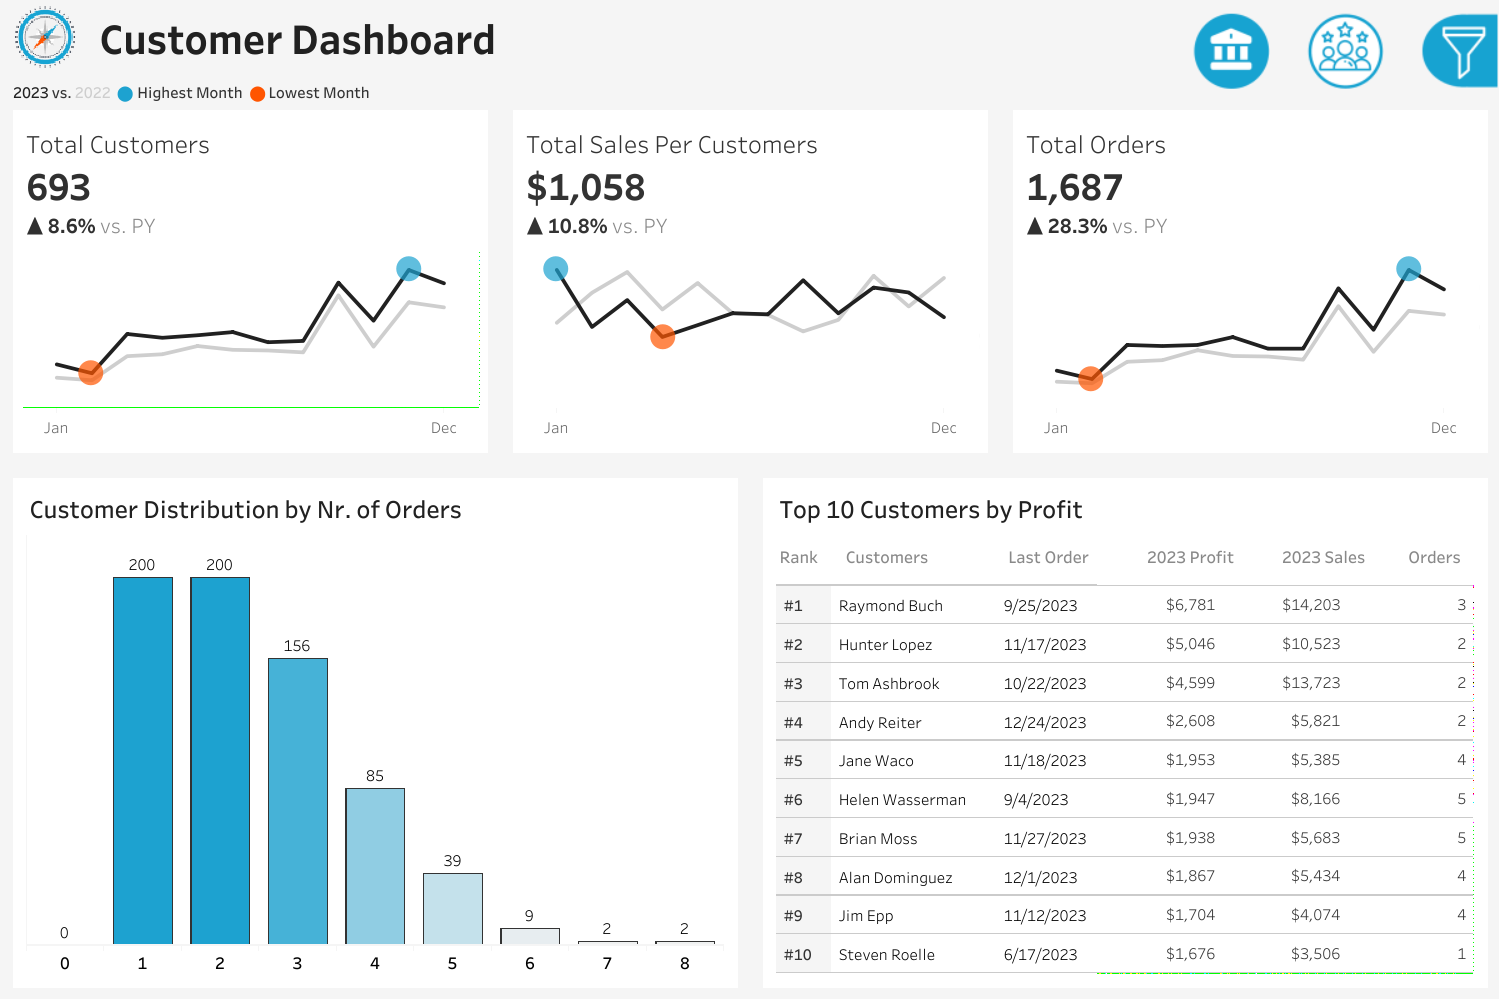

The page's visual inventory and layout, read from the dashboard file:
{"tool":"tableau","page":{"name":"Customer Dashboard","canvas":[1200,800],"ordinal":0},"visuals":[{"type":"image","param":"Image/Icon - Logo.png","box":[0,0,73,59]},{"type":"text","box":[73,0,820,59]},{"type":"dashboard-object","box":[940,6,91,70]},{"type":"dashboard-object","box":[1031,6,91,70]},{"type":"blank","box":[952,10,237,86]},{"type":"worksheet","title":"Legend KPI","mark":"Automatic","box":[0,59,1200,29]},{"type":"worksheet","title":"KPI Customers","mark":"Automatic","rows":["Min/Max Quantity (copy)_3221481164588691468"],"cols":["Order Date"],"box":[0,88,400,284]},{"type":"worksheet","title":"KPI Sales Per Customers","mark":"Automatic","rows":["Min/Max Quantity (copy)_3221481164537155591"],"cols":["Order Date"],"box":[400,88,400,284]},{"type":"worksheet","title":"KPI Orders","mark":"Automatic","rows":["Min/Max Sales (copy)_3221481164601258003"],"cols":["Order Date"],"box":[800,88,400,284]},{"type":"text","box":[952,96,237,37]},{"type":"parameter","param":"[Parameters].[Parameter 1]","box":[952,133,237,55]},{"type":"text","box":[952,188,237,32]},{"type":"filter","title":"KPI Customers","param":"[federated.1kpxa041aiai2y1cl4pui1t4eju9].[none:Category:nk]","box":[952,220,237,57]},{"type":"filter","title":"KPI Customers","param":"[federated.1kpxa041aiai2y1cl4pui1t4eju9].[none:Sub-Category:nk]","box":[952,277,237,57]},{"type":"blank","box":[952,334,237,60]},{"type":"text","box":[17,389,566,40]},{"type":"text","box":[617,389,566,40]},{"type":"text","box":[952,394,237,32]},{"type":"filter","title":"KPI Customers","param":"[federated.1kpxa041aiai2y1cl4pui1t4eju9].[none:Region:nk]","box":[952,426,237,57]},{"type":"worksheet","title":"Customer Distribution","mark":"Bar","rows":["CY Sales (copy)_3221481164532666369"],"cols":["Calculation_998110323739992064"],"box":[17,429,566,354]},{"type":"text","box":[617,429,53,40]},{"type":"text","box":[670,429,130,40]},{"type":"text","box":[800,429,111,40]},{"type":"text","box":[911,429,108,40]},{"type":"text","box":[1019,429,101,40]},{"type":"text","box":[1120,429,63,40]},{"type":"worksheet","title":"Top Customers","mark":"Automatic","rows":["Calculation_782500491678904334","Customer Name","Order Date"],"box":[617,469,566,314]},{"type":"filter","title":"KPI Customers","param":"[federated.1kpxa041aiai2y1cl4pui1t4eju9].[none:State:nk]","box":[952,483,237,57]},{"type":"filter","title":"KPI Customers","param":"[federated.1kpxa041aiai2y1cl4pui1t4eju9].[none:City:nk]","box":[952,540,237,57]}]}

Visuals, with their boxes in screenshot pixels (x1, y1, x2, y2), scaled from the page's 1200x800 canvas onto the 1499x999 screenshot:
image: x1=0 y1=0 x2=91 y2=74
text: x1=91 y1=0 x2=1116 y2=74
dashboard-object: x1=1174 y1=7 x2=1288 y2=95
dashboard-object: x1=1288 y1=7 x2=1402 y2=95
blank: x1=1189 y1=12 x2=1485 y2=120
"Legend KPI" worksheet: x1=0 y1=74 x2=1498 y2=110
"KPI Customers" worksheet: x1=0 y1=110 x2=500 y2=465
"KPI Sales Per Customers" worksheet: x1=500 y1=110 x2=999 y2=465
"KPI Orders" worksheet: x1=999 y1=110 x2=1498 y2=465
text: x1=1189 y1=120 x2=1485 y2=166
parameter: x1=1189 y1=166 x2=1485 y2=235
text: x1=1189 y1=235 x2=1485 y2=275
"KPI Customers" filter: x1=1189 y1=275 x2=1485 y2=346
"KPI Customers" filter: x1=1189 y1=346 x2=1485 y2=417
blank: x1=1189 y1=417 x2=1485 y2=492
text: x1=21 y1=486 x2=728 y2=536
text: x1=771 y1=486 x2=1478 y2=536
text: x1=1189 y1=492 x2=1485 y2=532
"KPI Customers" filter: x1=1189 y1=532 x2=1485 y2=603
"Customer Distribution" worksheet (Bar marks): x1=21 y1=536 x2=728 y2=978
text: x1=771 y1=536 x2=837 y2=586
text: x1=837 y1=536 x2=999 y2=586
text: x1=999 y1=536 x2=1138 y2=586
text: x1=1138 y1=536 x2=1273 y2=586
text: x1=1273 y1=536 x2=1399 y2=586
text: x1=1399 y1=536 x2=1478 y2=586
"Top Customers" worksheet: x1=771 y1=586 x2=1478 y2=978
"KPI Customers" filter: x1=1189 y1=603 x2=1485 y2=674
"KPI Customers" filter: x1=1189 y1=674 x2=1485 y2=746
